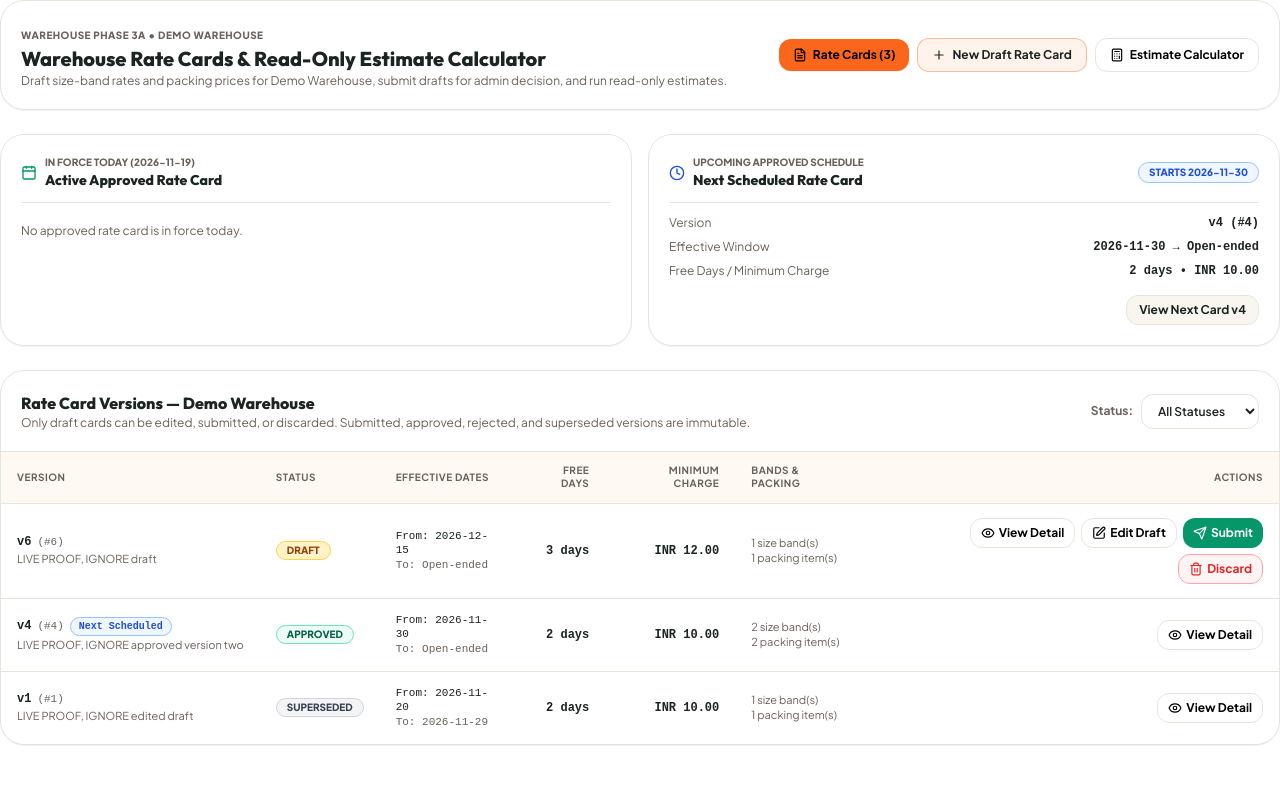
Test case: Warehouse Rate Cards Screens (Phase 3a) › 2. State-Dependent Actions: shows Edit/Submit/Discard only on draft cards, locks card as read-only after submit, and handles 409 conflict by refetching
Expected: the row with test id "manager-rate-card-row-6" is shown, [1, 504, 1279, 598]
Expected: the button with test id "manager-edit-rate-card-btn-6" is shown, [1081, 518, 1177, 548]
Click the button with test id "manager-submit-rate-card-btn-6" at [1223, 533], box [1183, 518, 1263, 548]
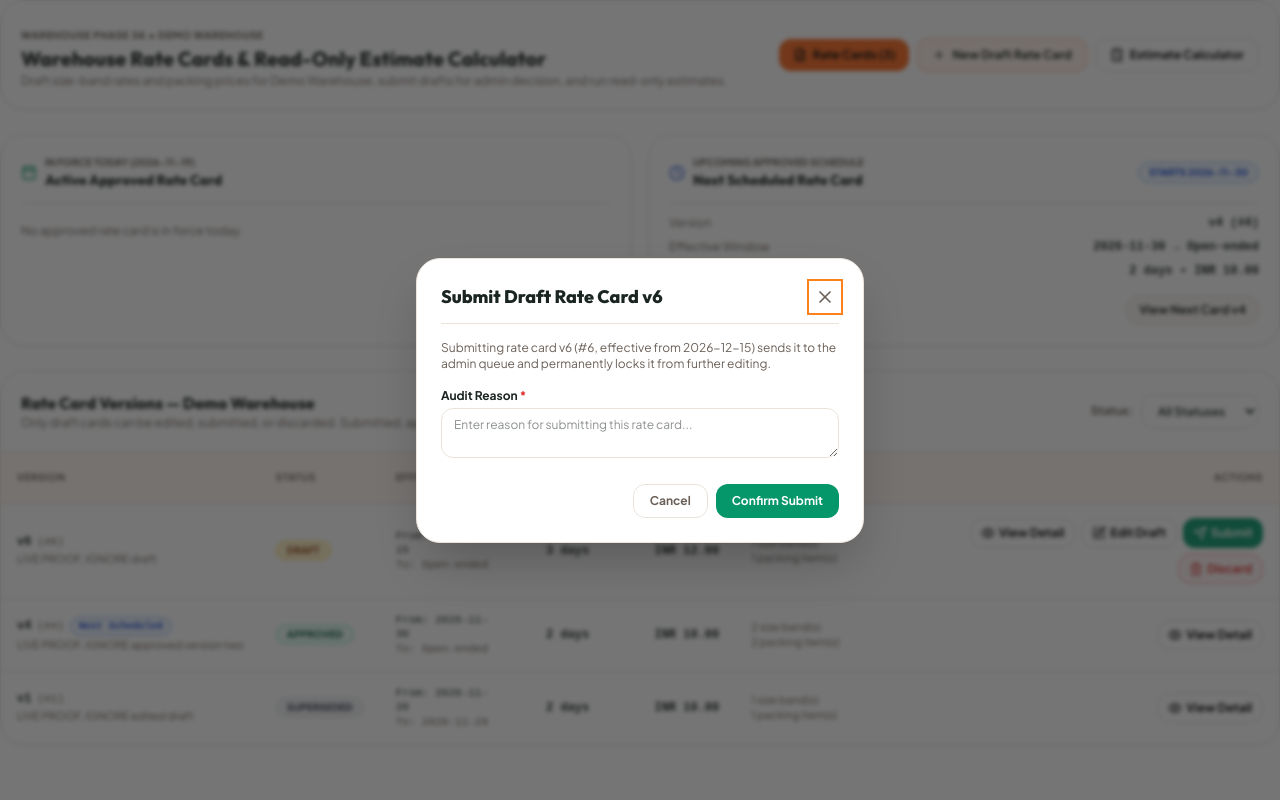
Now the dialog with test id "manager-submit-card-modal" is shown, box [416, 258, 864, 542]
Type "LIVE PROOF, IGNORE submit draft" into the text box with test id "manager-submit-reason-input" at [640, 432], box [441, 408, 839, 458]
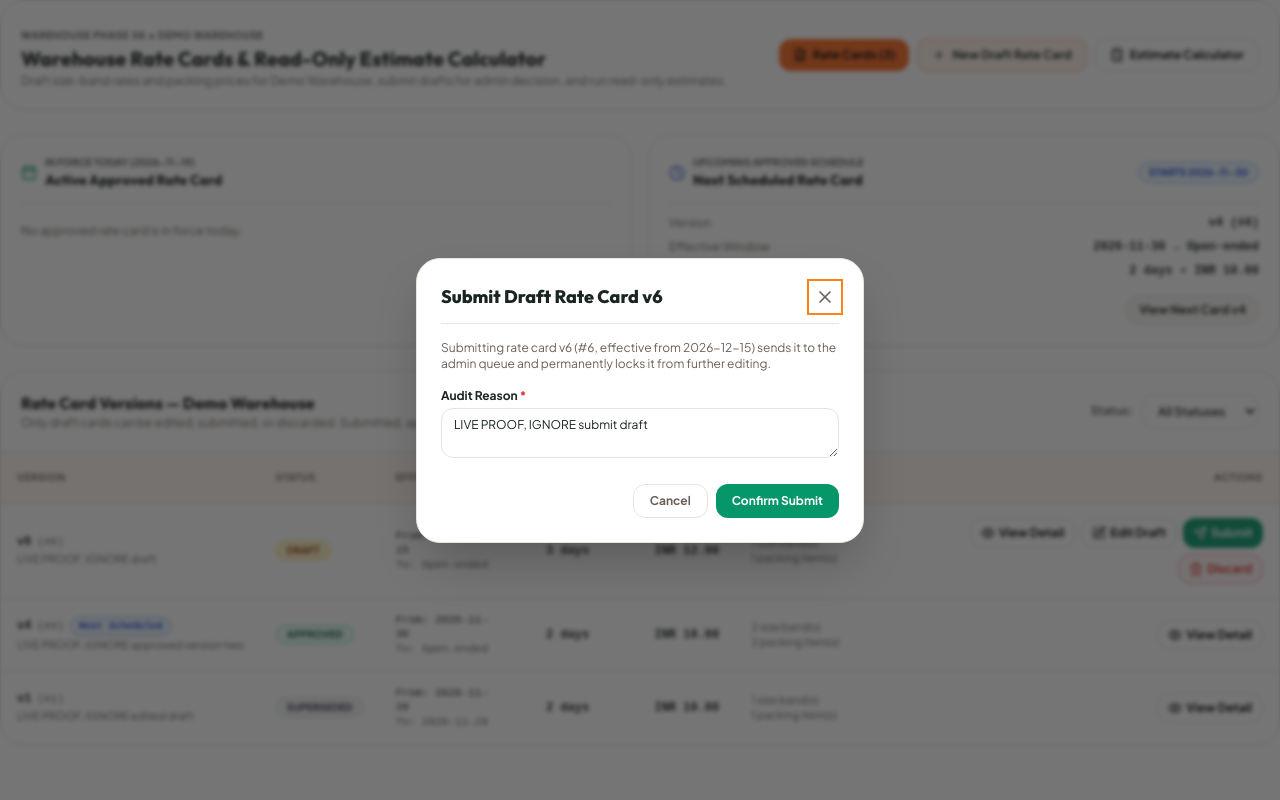
Click the button with test id "manager-confirm-submit-btn" at [777, 500], box [716, 484, 839, 518]
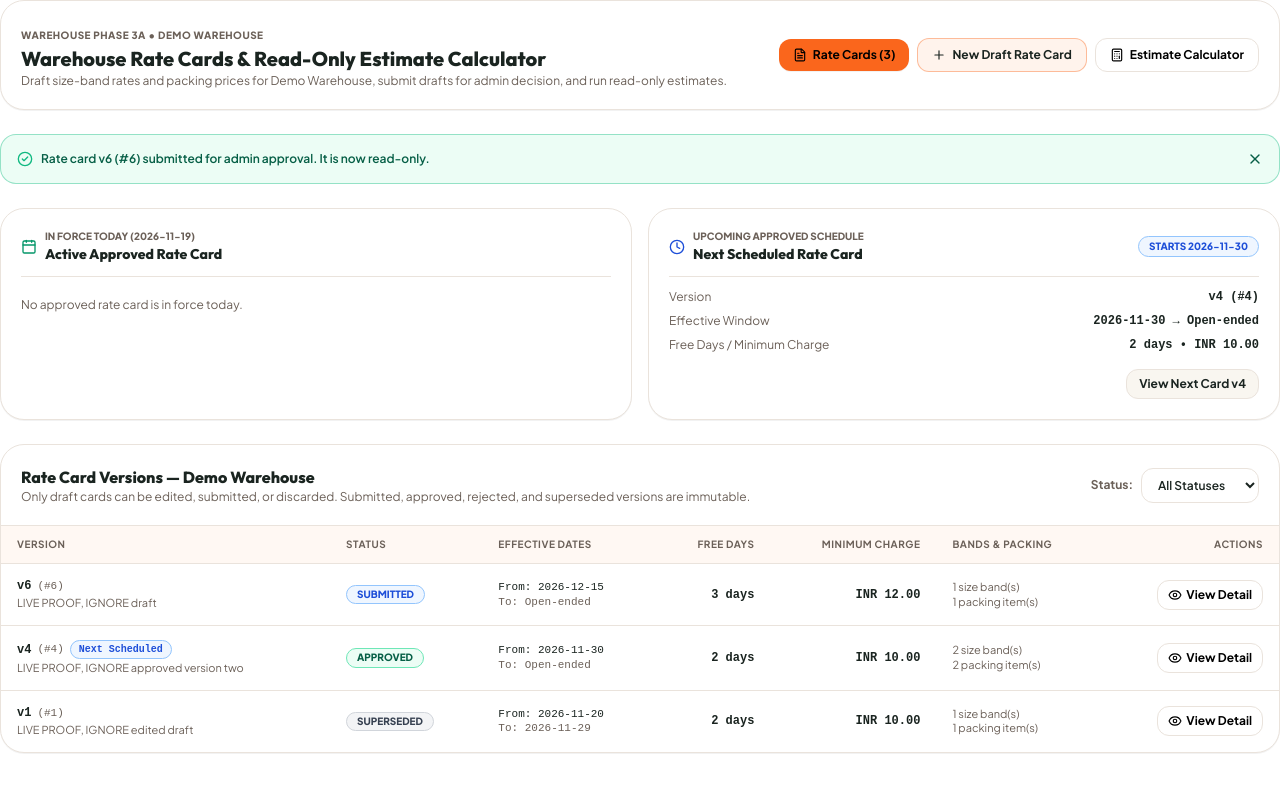
Now the message with test id "manager-rate-card-feedback-banner" reads "Rate card v6 (#6) submitted for admin approval. It is now read-only.", box [41, 151, 430, 166]
Now the button with test id "manager-edit-rate-card-btn-6" is gone
Now the button with test id "manager-submit-rate-card-btn-6" is gone
Click the button with test id "manager-view-rate-card-btn-6" at [1210, 595], box [1157, 580, 1263, 610]
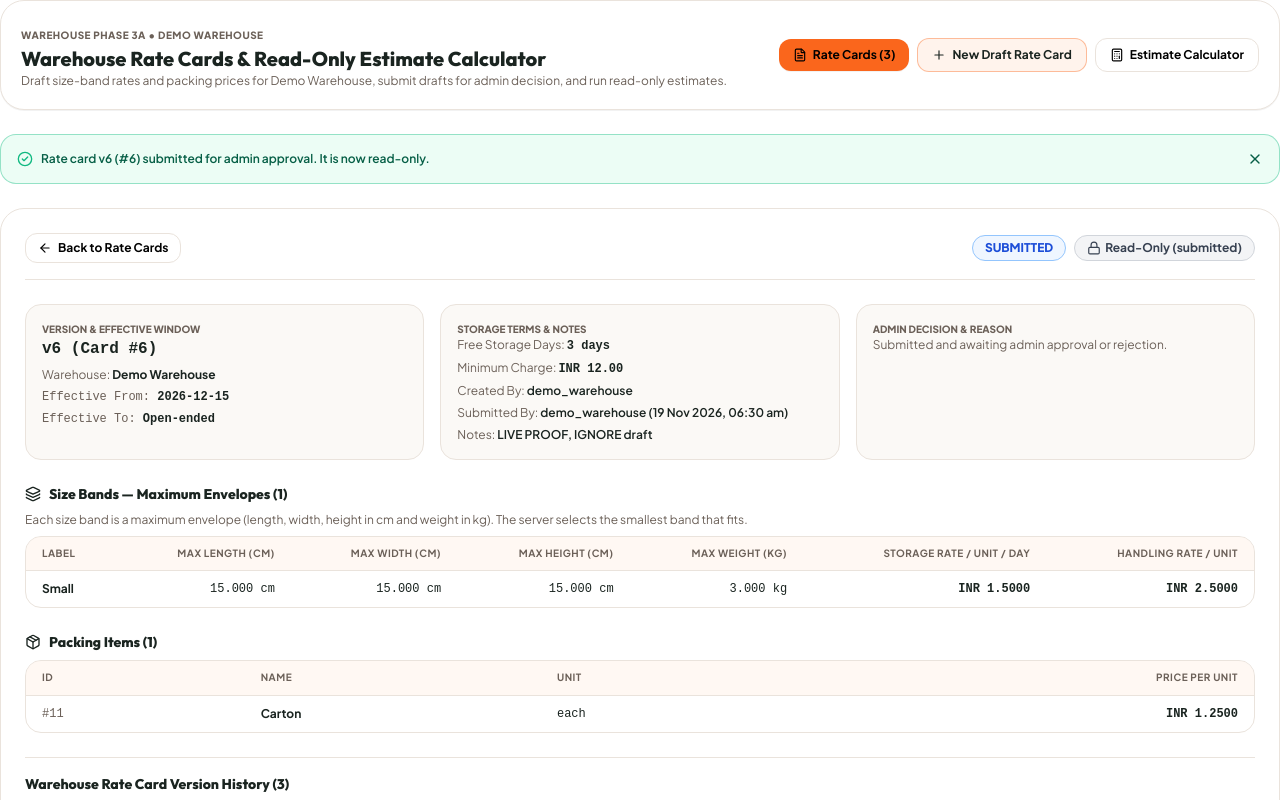
Now the element with test id "detail-read-only-badge" reads "Read-Only (submitted)", box [1074, 235, 1255, 261]
